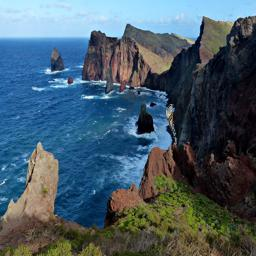Cuckoo: (166, 104, 177, 144)
